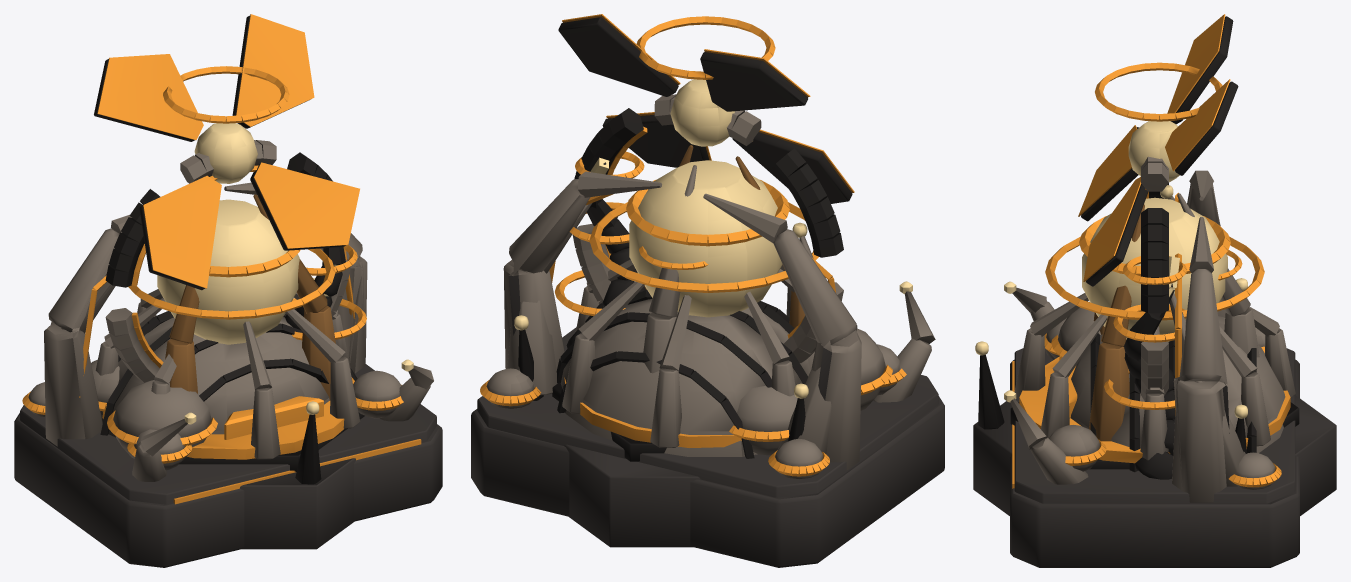
Rendered from corona-kit.glb.
3 renders of one model, left to right at view 1: azimuth 30°, elevation 25°; view 2: azimuth 150°, elevation 25°; view 3: azimuth 270°, elevation 25°, orthographic. The views are drawn at different scales.
Parts seen in each view (by area): view 1: cor_collector_0, cor_hangar_0, cor_extractor_0, cor_dome_0, cor_gantry_0, cor_refinery_0; view 2: cor_hangar_0, cor_extractor_0, cor_dome_0, cor_collector_0, cor_gantry_0, cor_refinery_0; view 3: cor_hangar_0, cor_extractor_0, cor_dome_0, cor_collector_0, cor_gantry_0, cor_refinery_0.
Boxes of the visible parts, x1=… form: cor_collector_0: x1=94, y1=14, x2=359, y2=400; cor_hangar_0: x1=14, y1=311, x2=442, y2=567; cor_extractor_0: x1=20, y1=140, x2=436, y2=504; cor_dome_0: x1=95, y1=249, x2=364, y2=549; cor_gantry_0: x1=18, y1=182, x2=367, y2=527; cor_refinery_0: x1=91, y1=245, x2=366, y2=461; cor_hangar_0: x1=471, y1=281, x2=944, y2=567; cor_extractor_0: x1=477, y1=94, x2=938, y2=497; cor_dome_0: x1=514, y1=180, x2=808, y2=547; cor_collector_0: x1=558, y1=14, x2=854, y2=373; cor_gantry_0: x1=503, y1=171, x2=940, y2=504; cor_refinery_0: x1=555, y1=151, x2=892, y2=455; cor_hangar_0: x1=1004, y1=281, x2=1299, y2=567; cor_extractor_0: x1=1012, y1=156, x2=1295, y2=503; cor_dome_0: x1=973, y1=216, x2=1336, y2=515; cor_collector_0: x1=1078, y1=14, x2=1259, y2=441; cor_gantry_0: x1=1047, y1=170, x2=1262, y2=546; cor_refinery_0: x1=1051, y1=256, x2=1225, y2=479.
Bounding box in the file's own units: 1.6 × 2.08 × 1.55.
